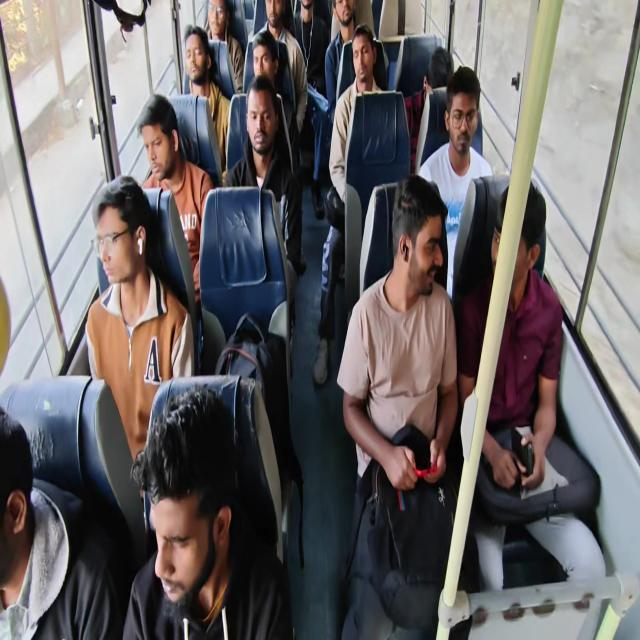person: (336, 173, 478, 638), (455, 179, 606, 592), (122, 385, 294, 638), (85, 175, 195, 474), (0, 405, 122, 639), (312, 23, 388, 384), (417, 66, 494, 300), (137, 93, 214, 308), (224, 74, 304, 276), (328, 23, 387, 203), (290, 0, 330, 218), (247, 30, 300, 173), (253, 0, 308, 134), (182, 25, 230, 172), (404, 46, 455, 170), (324, 0, 376, 121), (290, 0, 330, 96), (204, 0, 244, 95)
